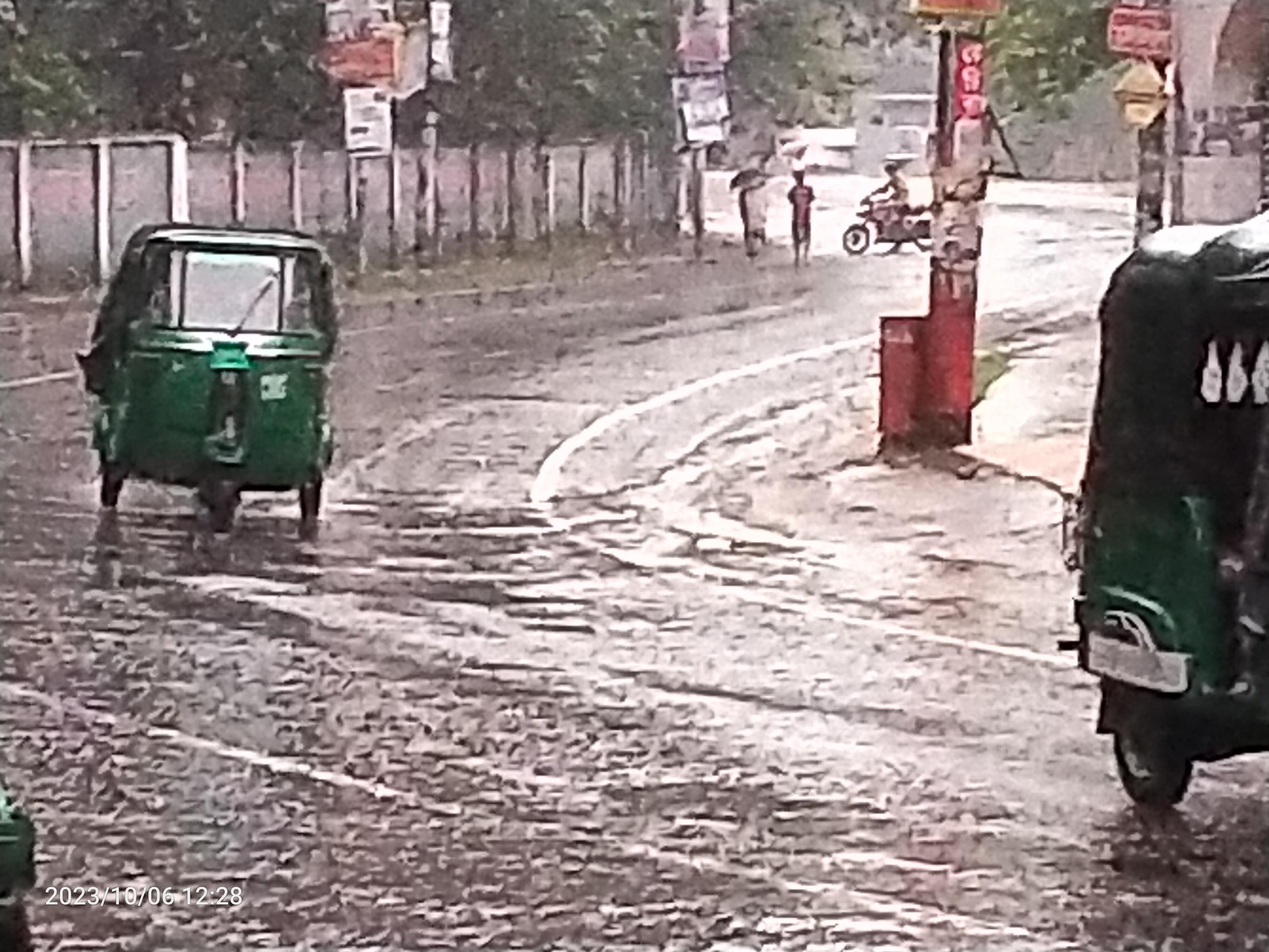Bike: (838, 148, 955, 275)
